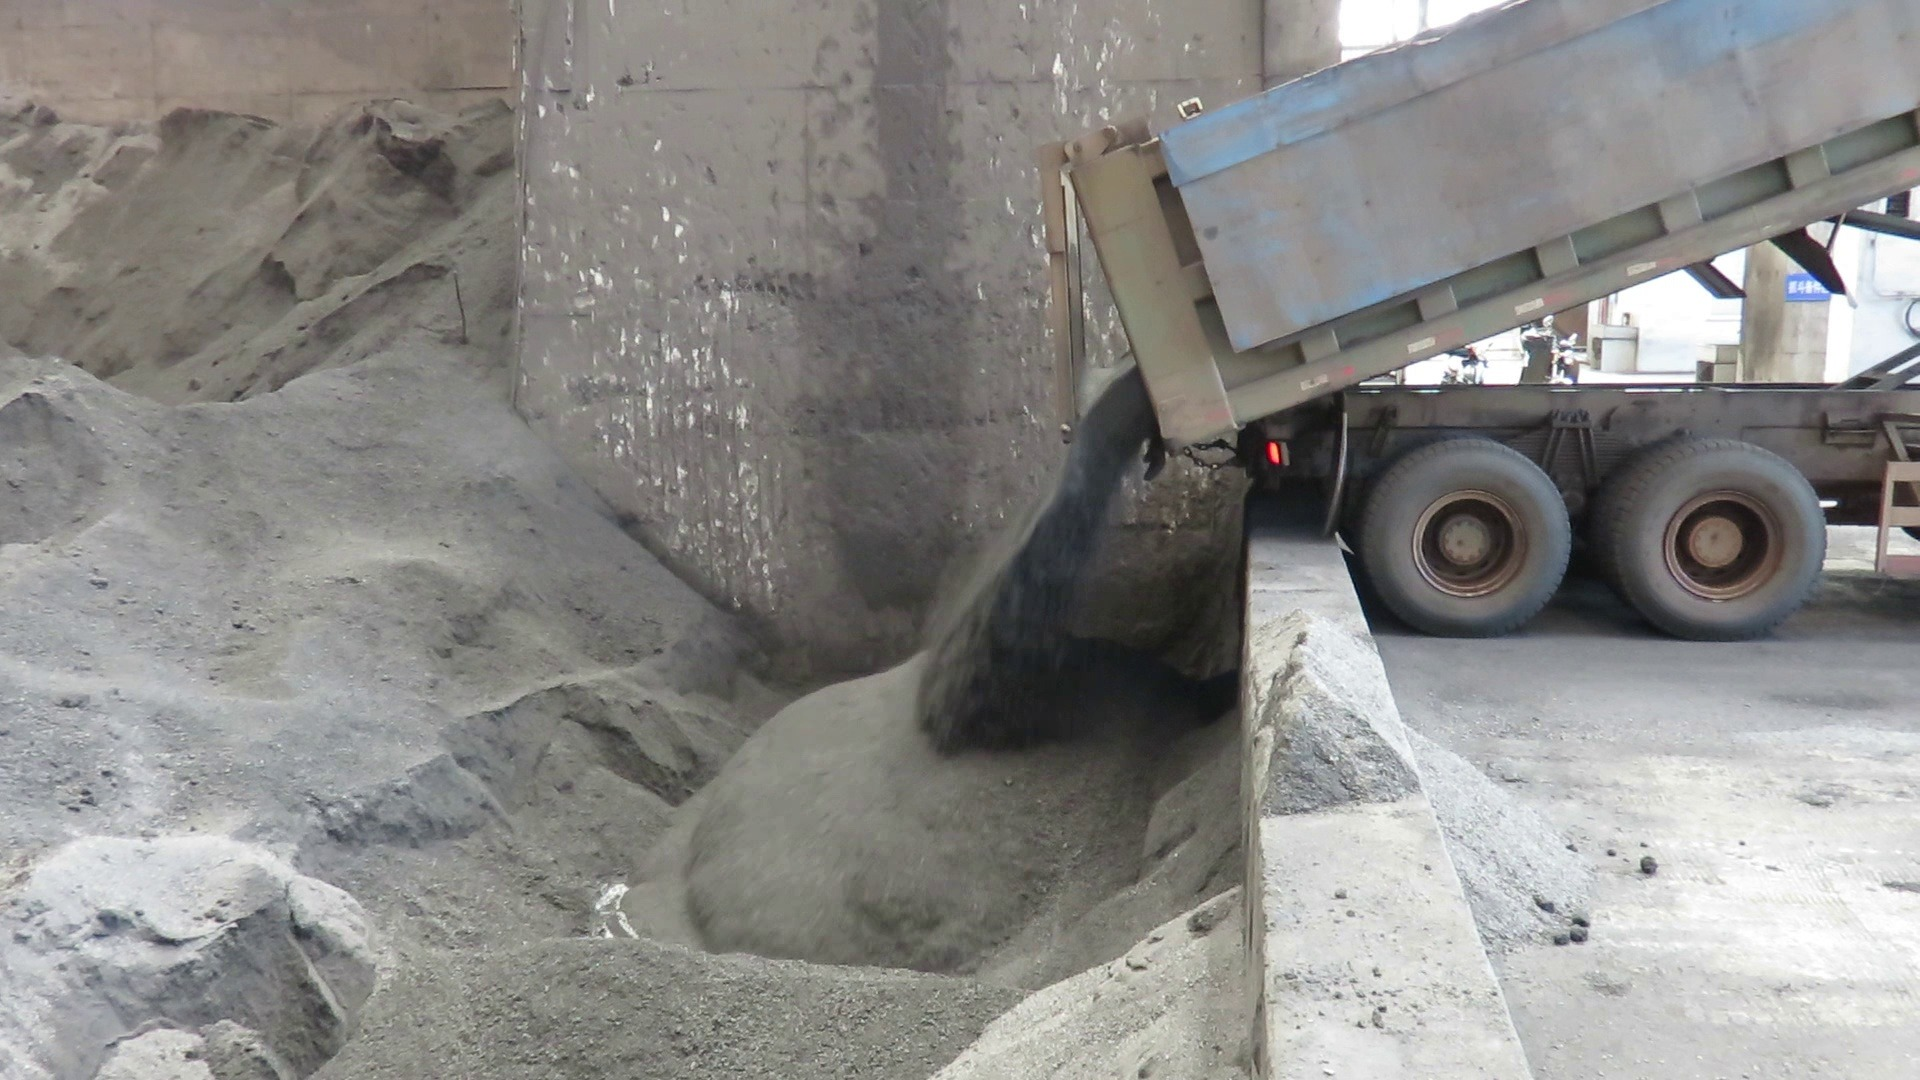truck: (1048, 0, 1920, 655)
